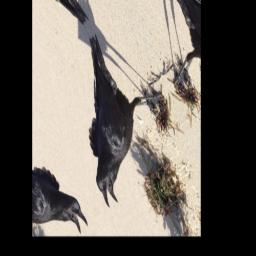Crow: (44, 9, 188, 211)
